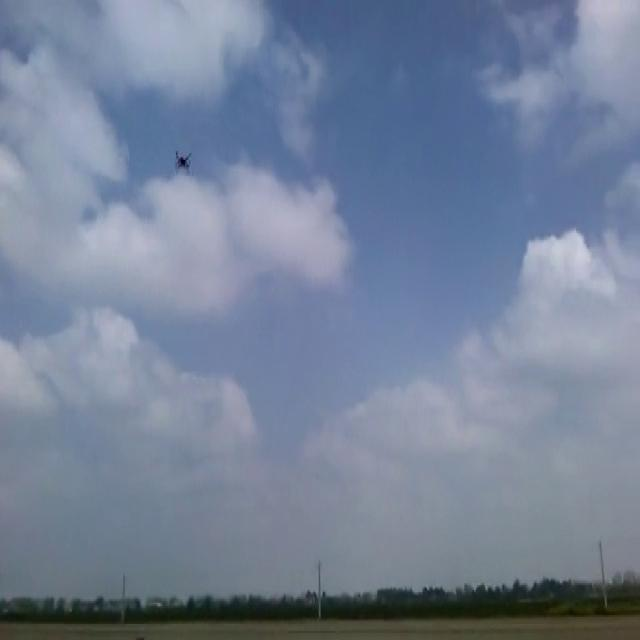drone: (172, 146, 194, 174)
